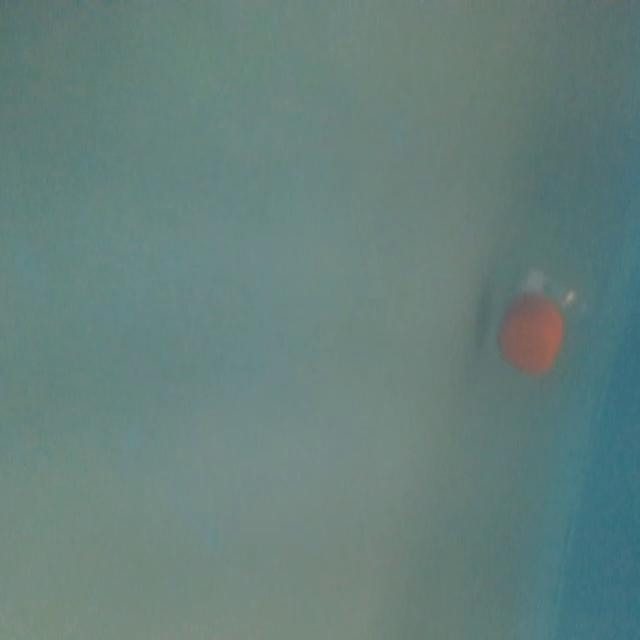plastic bottle: (458, 58, 640, 397)
